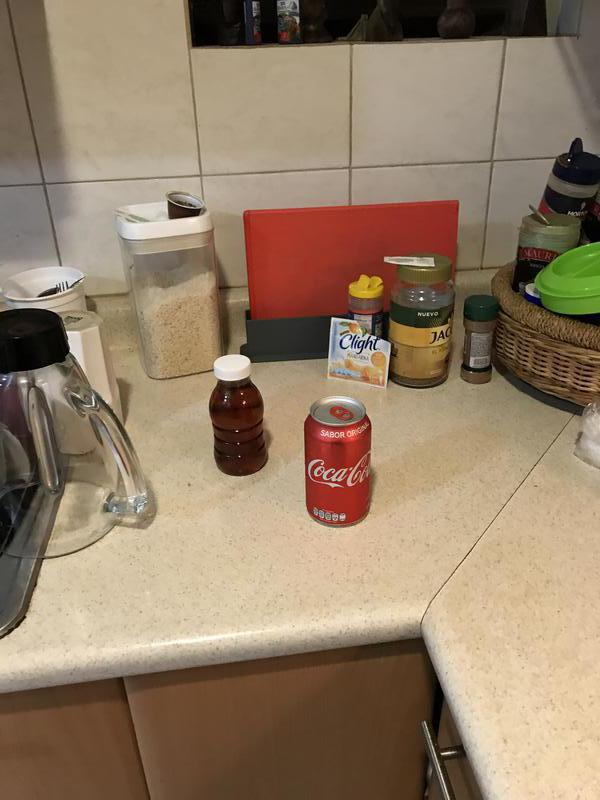coca_cola: (304, 398, 376, 528)
